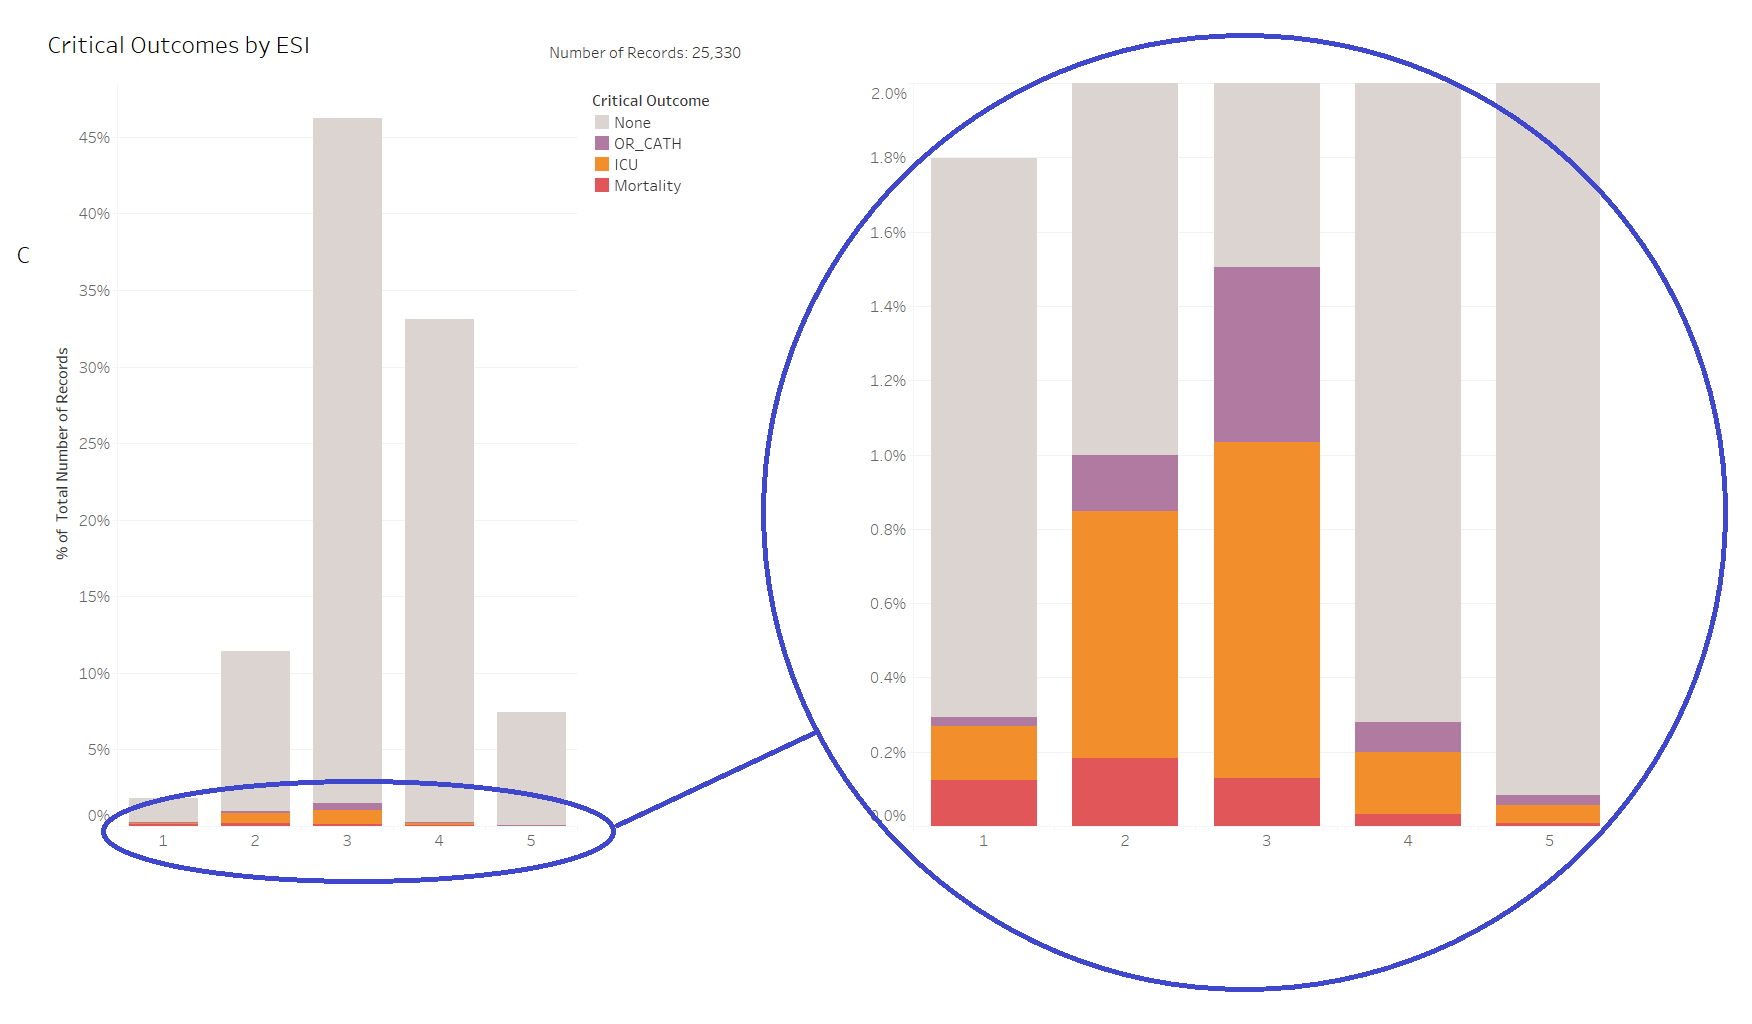

Layout of this report page (visuals, bound fields, positions):
{"tool":"tableau","page":{"name":"Dashboard 1","canvas":[1000,1000],"units":"permille","ordinal":0},"visuals":[{"type":"text","box":[6,13.3,291.7,81.9]},{"type":"worksheet","title":"NREC","mark":"Automatic","box":[297.7,13.3,696.3,81.9]},{"type":"worksheet","title":"Critical Outcomes","mark":"Automatic","rows":["Number of Records"],"cols":["IMMEDR"],"box":[6,95.2,372.5,891.5]},{"type":"worksheet","title":"Critical Outcomes (2)","mark":"Automatic","rows":["Number of Records"],"cols":["IMMEDR"],"box":[378.5,95.2,347.4,891.5]},{"type":"blank","box":[725.9,95.2,268.1,891.5]},{"type":"legend","title":"Critical Outcomes","param":"[federated.0lqj8g704y7h201dtm8pb11lsept].[none:Calculation_663155077068849152:nk","box":[249.8,119.8,137.6,206.3]}]}

Visuals, with their boxes on the dashboard's canvas, which has no fixed pixel size, in thousandths of its width and height (x1, y1, x2, y2). These are canvas units, not pixel positions in the 1752x1024 screenshot, which may show the page scaled, cropped or inside an application window:
text: x1=6, y1=13, x2=298, y2=95
"NREC" worksheet: x1=298, y1=13, x2=994, y2=95
"Critical Outcomes" worksheet: x1=6, y1=95, x2=378, y2=987
"Critical Outcomes (2)" worksheet: x1=378, y1=95, x2=726, y2=987
blank: x1=726, y1=95, x2=994, y2=987
"Critical Outcomes" legend: x1=250, y1=120, x2=387, y2=326
